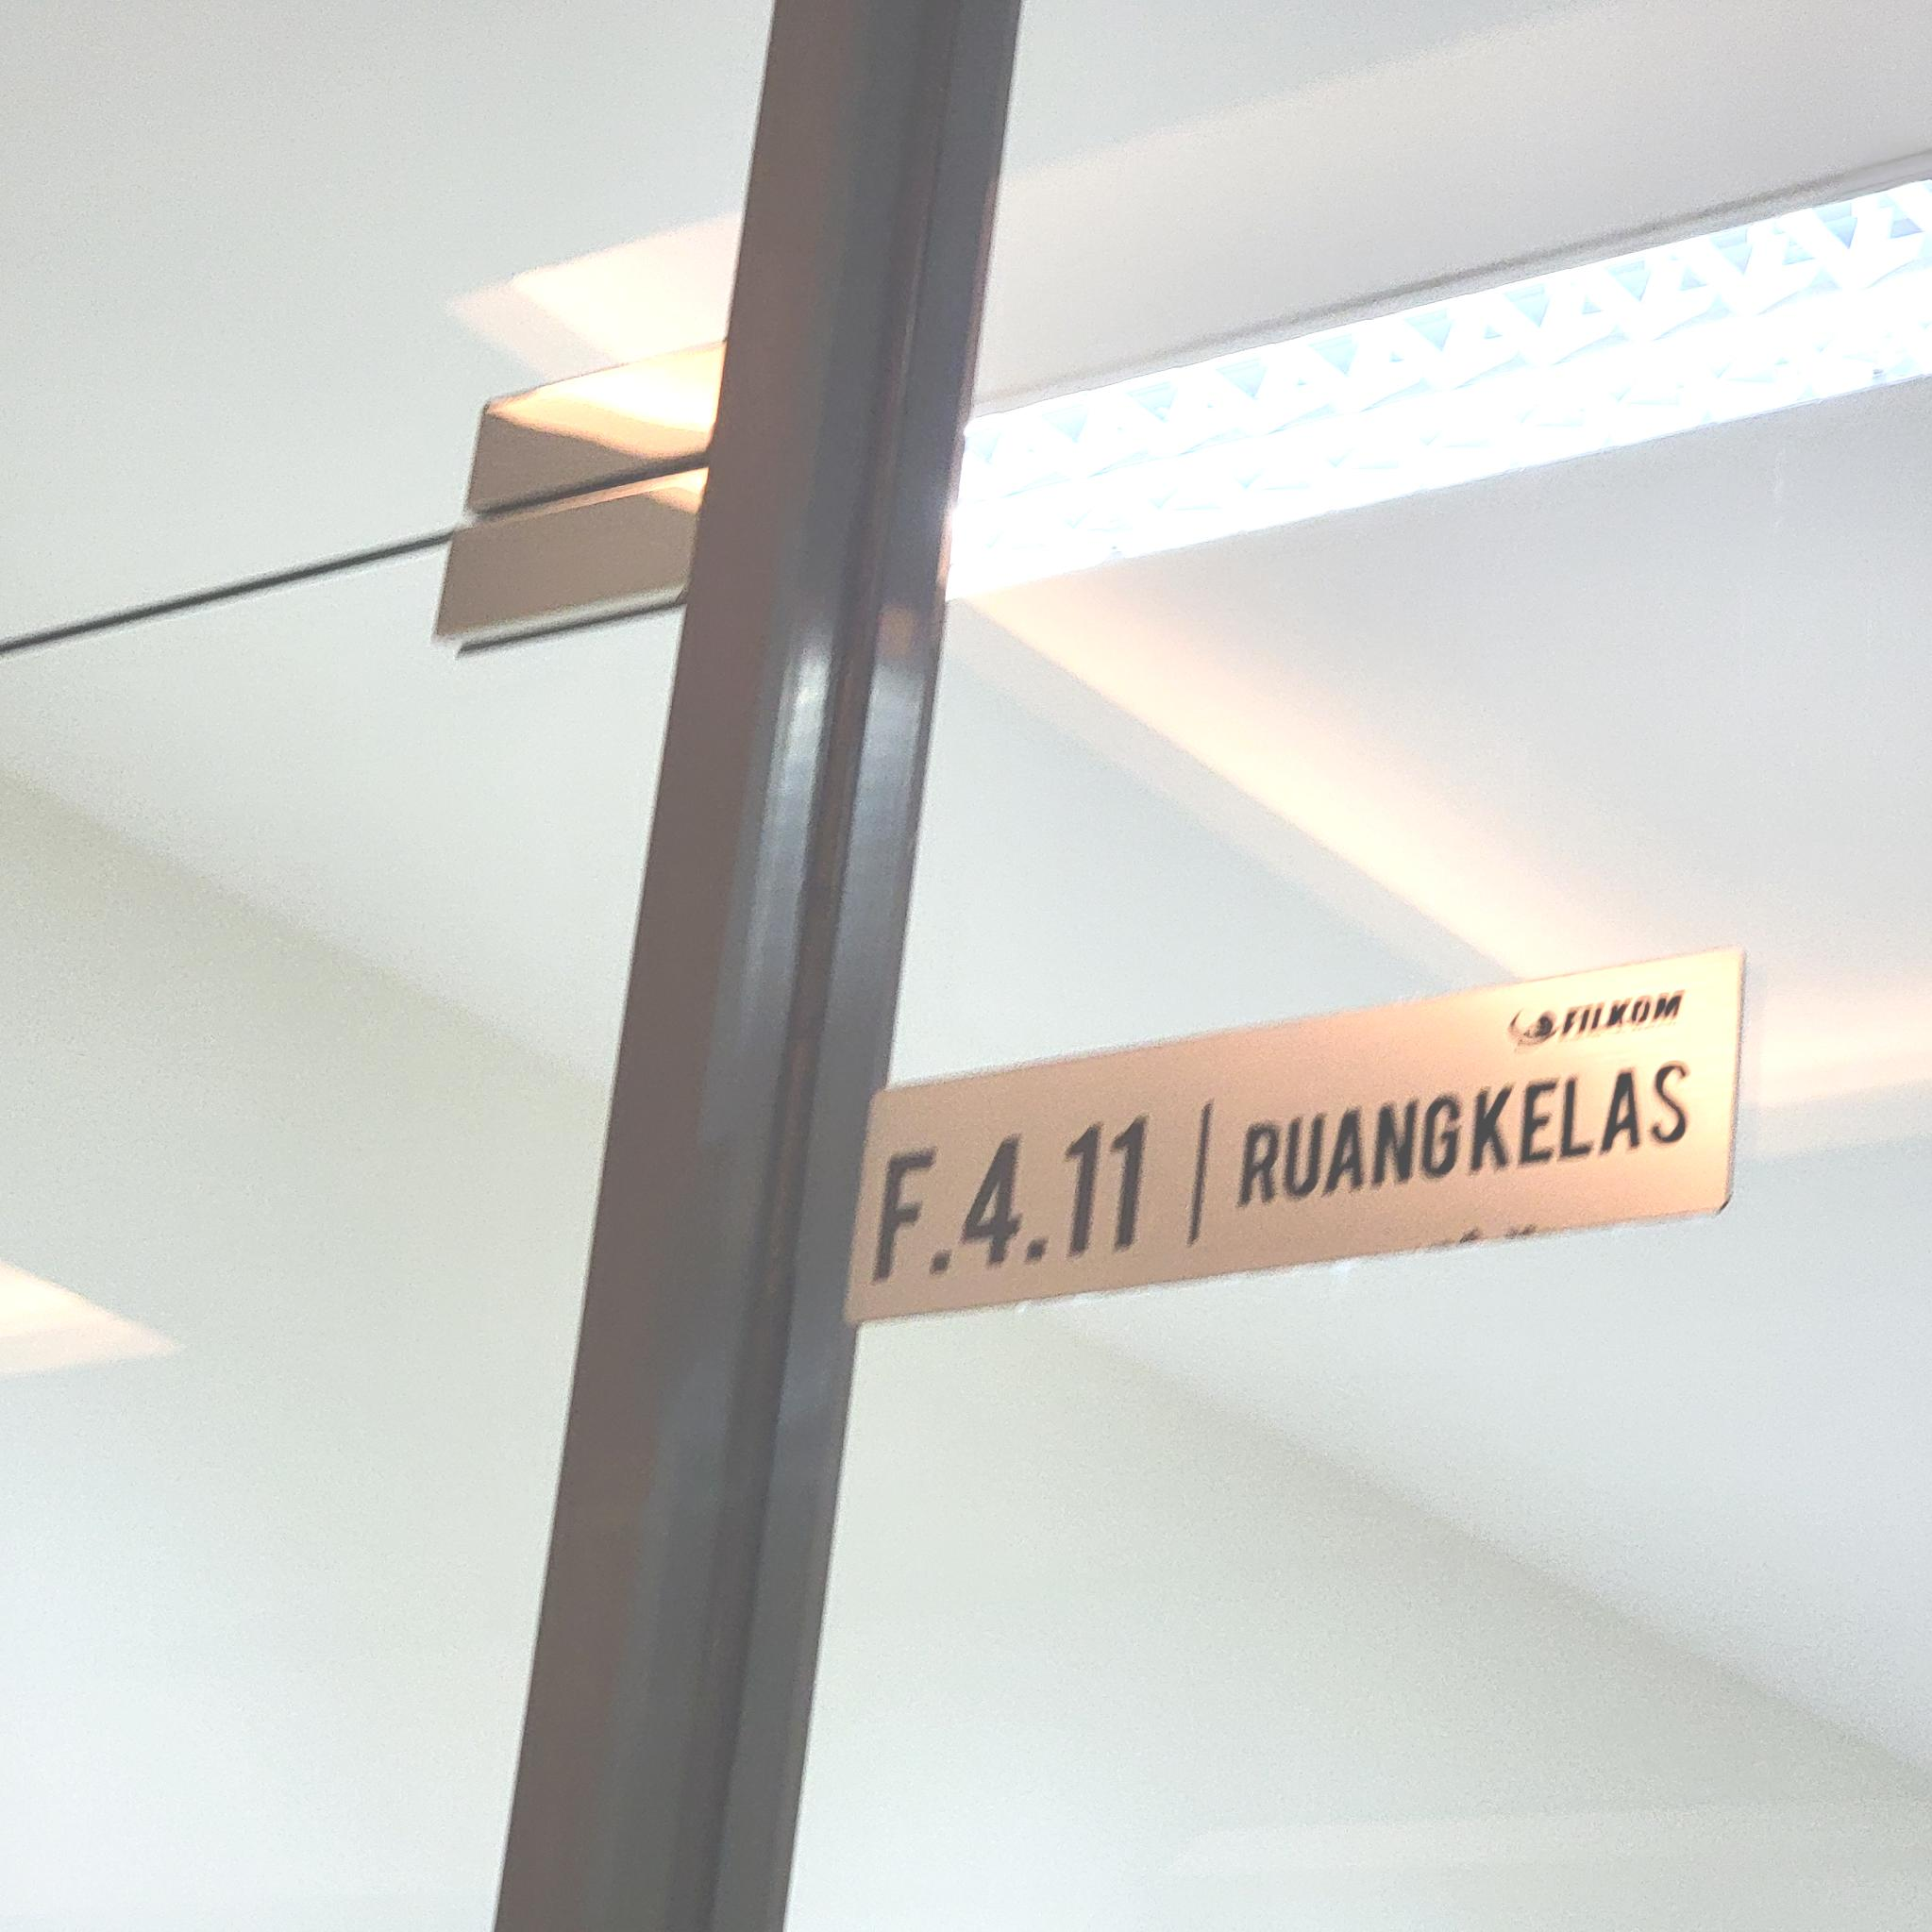plate: (837, 947, 1748, 1330)
